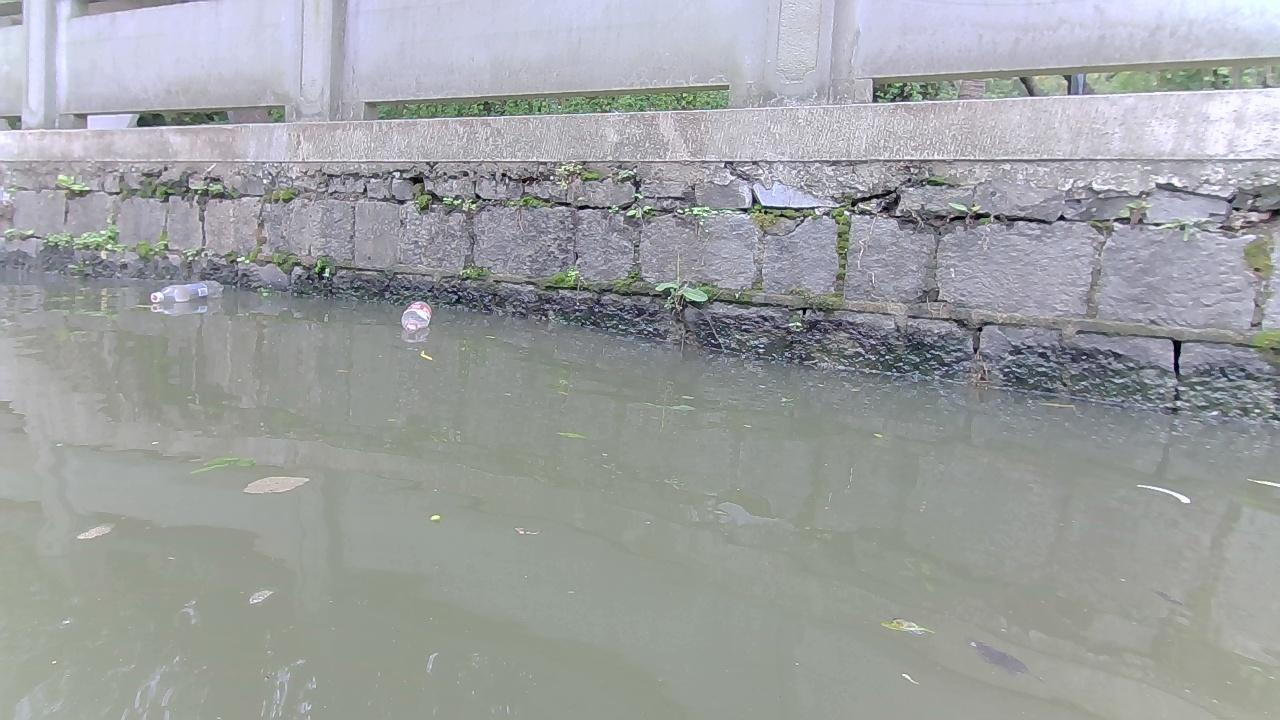bottle: (149, 279, 224, 303), (399, 299, 431, 333)
